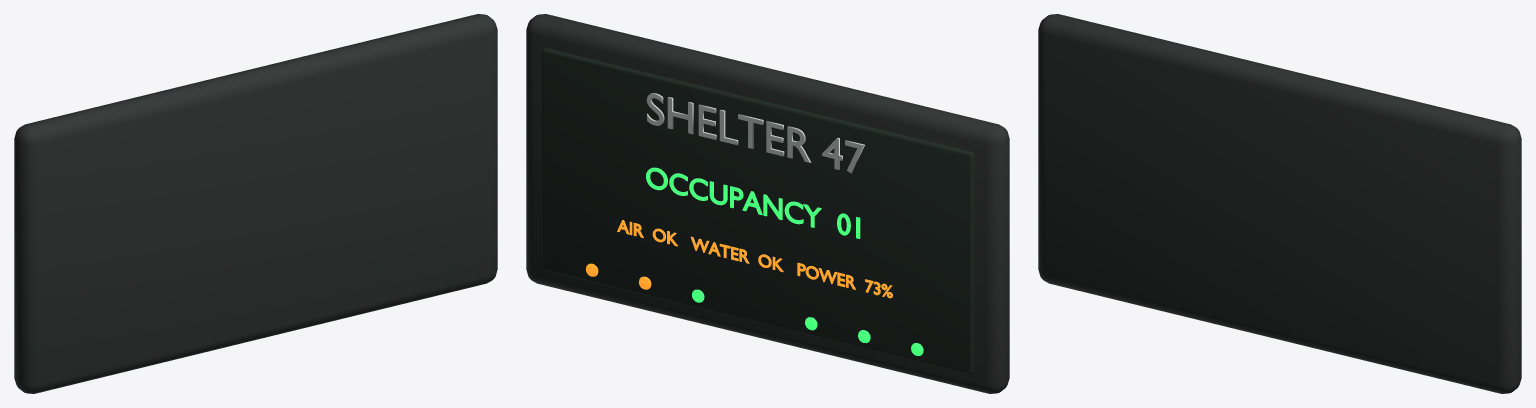
The model's file is status_board_v3.glb.
3 renders of one model, left to right at view 1: azimuth 30°, elevation 25°; view 2: azimuth 150°, elevation 25°; view 3: azimuth 330°, elevation 25°, orthographic.
Parts seen in each view (by area): view 1: StatusHousing; view 2: StatusGlass, StatusHousing, ShelterTitle, Occupancy, SystemLine; view 3: StatusHousing.
Boxes of the visible parts, left/top/right/bottom form: StatusHousing: left=14, top=14, right=497, bottom=393; StatusGlass: left=542, top=48, right=974, bottom=373; StatusHousing: left=526, top=14, right=1009, bottom=393; ShelterTitle: left=646, top=93, right=864, bottom=173; Occupancy: left=646, top=167, right=860, bottom=238; SystemLine: left=617, top=220, right=892, bottom=298; StatusHousing: left=1038, top=14, right=1521, bottom=393.
Bounding box in the file's own units: 2.7 × 1.44 × 0.219.
